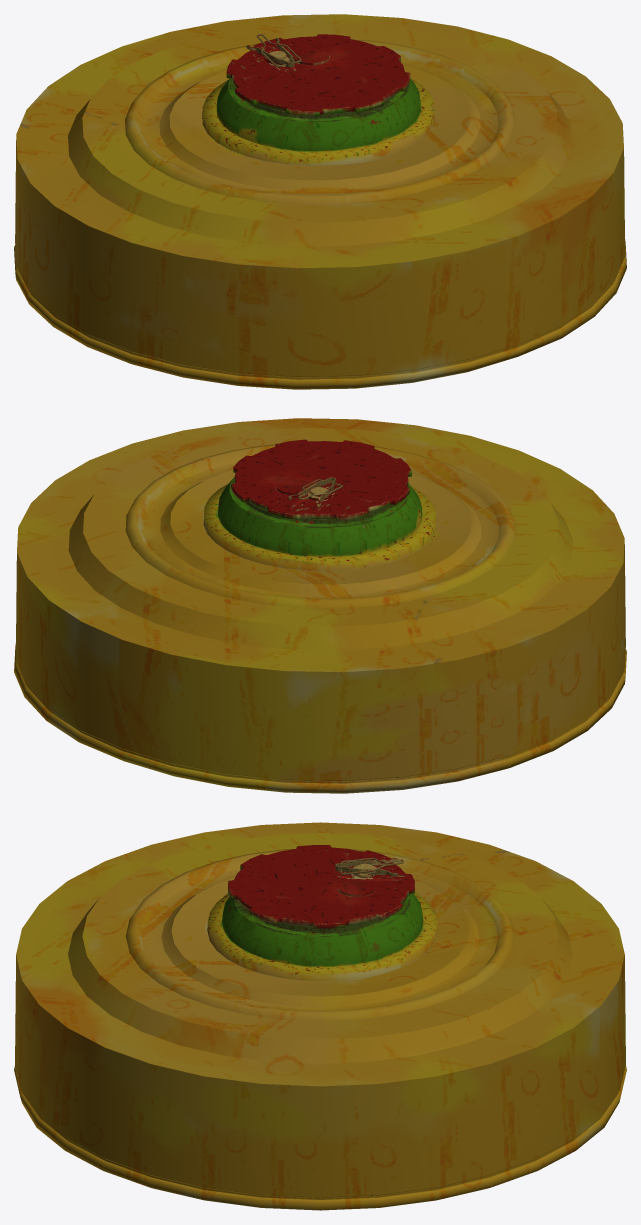
3 renders of one model, top to bottom at view 1: azimuth 30°, elevation 25°; view 2: azimuth 150°, elevation 25°; view 3: azimuth 270°, elevation 25°, orthographic.
Parts seen in each view (by area): view 1: object_0; view 2: object_0; view 3: object_0.
Boxes of the visible parts, left/top/right/bottom form: object_0: left=14, top=14, right=626, bottom=389; object_0: left=14, top=418, right=626, bottom=793; object_0: left=14, top=822, right=626, bottom=1210.
Bounding box in the file's own units: 0.3088 × 0.1132 × 0.3005.
1 material, 1 textured.
